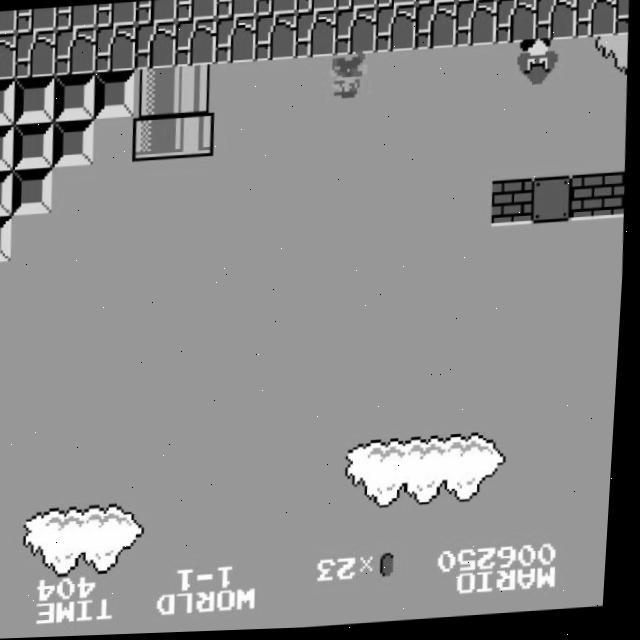1- brick_block: (571, 177, 616, 225), (491, 182, 536, 230), (611, 176, 628, 222)
11- little_mario: (325, 53, 373, 104)
14- pipe: (172, 66, 218, 114), (132, 68, 178, 116)
15- pipe_head: (172, 111, 217, 159), (132, 114, 177, 162)
17- undestructible_block: (333, 9, 379, 58), (413, 4, 459, 52), (373, 7, 419, 55), (133, 22, 178, 71), (494, 0, 539, 48), (454, 2, 499, 50), (293, 12, 338, 60), (253, 15, 298, 63), (213, 17, 258, 65), (173, 20, 218, 68), (93, 25, 138, 73), (53, 28, 98, 76), (13, 30, 58, 78), (534, 0, 579, 45), (573, 0, 618, 42), (14, 7, 58, 33), (95, 2, 138, 28), (135, 0, 178, 25), (55, 5, 98, 30), (175, 0, 218, 22), (215, 0, 258, 20), (0, 32, 17, 80), (255, 0, 298, 18), (613, 0, 630, 40), (294, 0, 337, 14), (334, 0, 377, 12), (0, 9, 18, 34), (374, 0, 417, 9), (414, 0, 457, 7), (454, 0, 497, 5), (494, 0, 537, 2)
3- empty_block: (531, 179, 576, 228)
8- goomba: (516, 41, 563, 92)
9- hard_block: (92, 71, 138, 119), (11, 168, 57, 215), (52, 119, 97, 167), (52, 74, 97, 122), (12, 121, 57, 169), (12, 76, 57, 124), (0, 123, 17, 171), (0, 78, 17, 126), (0, 214, 16, 262), (0, 170, 16, 217)
